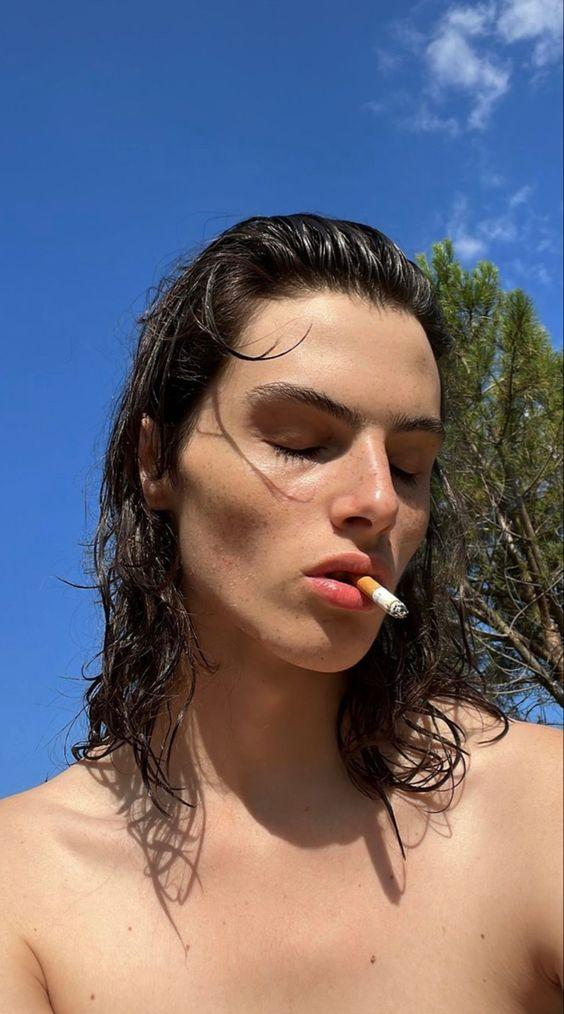cigarette: (348, 573, 410, 621)
